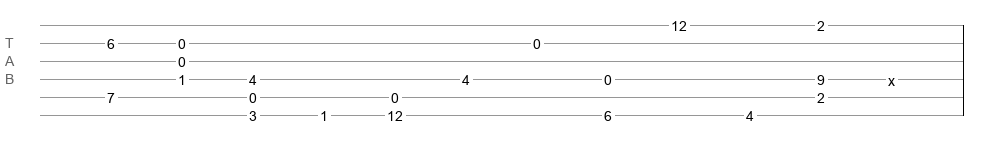0: (178, 54, 186, 64), (178, 36, 186, 46), (249, 90, 257, 100), (391, 90, 399, 100), (533, 36, 541, 46), (604, 72, 612, 82)
1: (178, 72, 186, 82), (320, 108, 328, 118)
12: (387, 108, 403, 118), (671, 18, 687, 28)
2: (817, 18, 825, 28), (817, 90, 825, 100)
3: (249, 108, 257, 118)
4: (249, 72, 257, 82), (462, 72, 470, 82), (746, 108, 754, 118)
6: (107, 36, 115, 46), (604, 108, 612, 118)
7: (107, 90, 115, 100)
9: (817, 72, 825, 82)
x: (888, 73, 895, 81)
